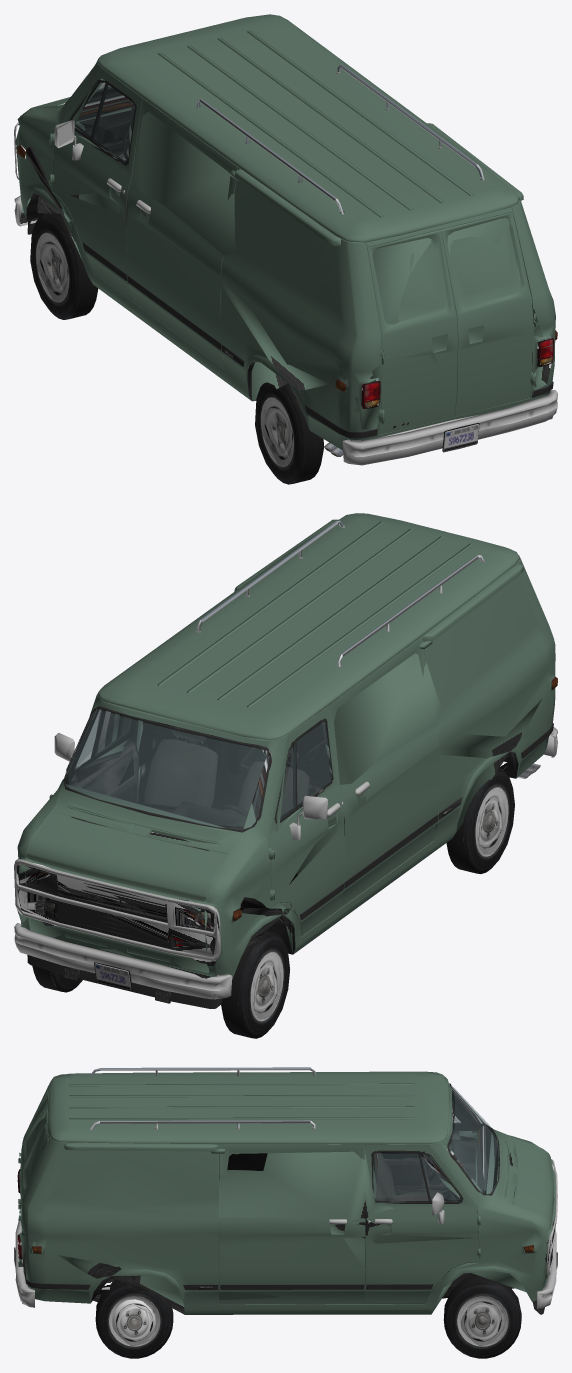
The model's file is dock-panel.glb.
The picture shows the model from 3 angles, top to bottom: view 1: azimuth 30°, elevation 25°; view 2: azimuth 150°, elevation 25°; view 3: azimuth 270°, elevation 25°; orthographic projection. The views are drawn at different scales.
Visible parts, largest first — view 1: Hull, Distance, LeftDoor, RearLeftWheel, FrontLeftWheel; view 2: Hull, Distance, LeftDoor, FrontLeftWheel, RearLeftWheel, RightDoor, FrontRightWheel; view 3: Hull, Distance, RightDoor, FrontRightWheel, RearRightWheel, LeftDoor.
Boxes of the visible parts, x1=… form: Hull: x1=14, y1=14, x2=557, y2=465; Distance: x1=14, y1=68, x2=554, y2=466; LeftDoor: x1=53, y1=68, x2=142, y2=300; RearLeftWheel: x1=255, y1=382, x2=323, y2=484; FrontLeftWheel: x1=30, y1=213, x2=98, y2=319; Hull: x1=14, y1=513, x2=557, y2=1008; Distance: x1=15, y1=529, x2=555, y2=1019; LeftDoor: x1=267, y1=705, x2=344, y2=936; FrontLeftWheel: x1=221, y1=931, x2=289, y2=1038; RearLeftWheel: x1=446, y1=768, x2=514, y2=873; RightDoor: x1=54, y1=706, x2=138, y2=801; FrontRightWheel: x1=32, y1=966, x2=82, y2=992; Hull: x1=14, y1=1067, x2=557, y2=1314; Distance: x1=21, y1=1083, x2=556, y2=1346; RightDoor: x1=365, y1=1144, x2=479, y2=1303; FrontRightWheel: x1=443, y1=1275, x2=521, y2=1358; RearRightWheel: x1=95, y1=1279, x2=173, y2=1358; LeftDoor: x1=385, y1=1102, x2=476, y2=1195.
Size of the model in its own units: 2.1 by 2.16 by 4.72.
3 materials, 2 textured.
